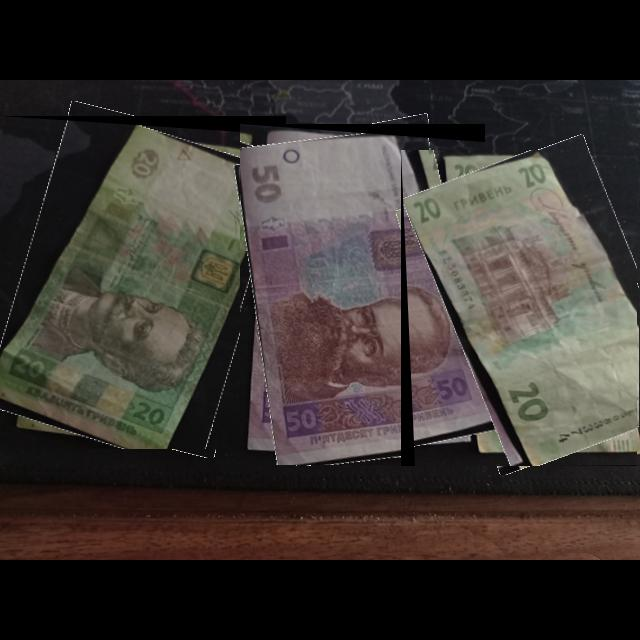20uah: (0, 124, 285, 451), (403, 150, 638, 467)
50uah: (240, 134, 475, 466)
